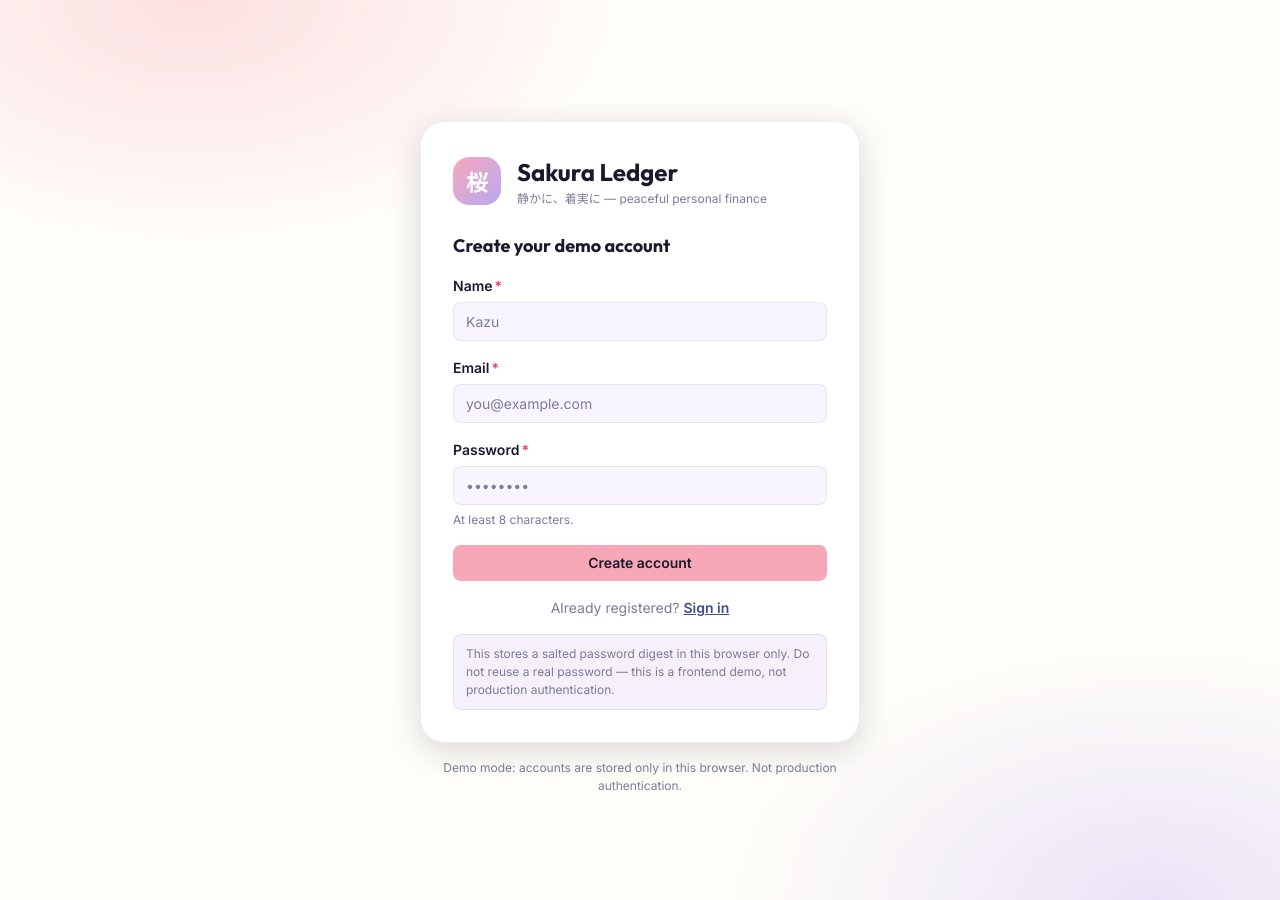
Test: demo authentication flow › rejects weak passwords on registration
Step 1. Type "Sa" into the field labelled "Name*" → (640, 322), box [453,302,827,341]
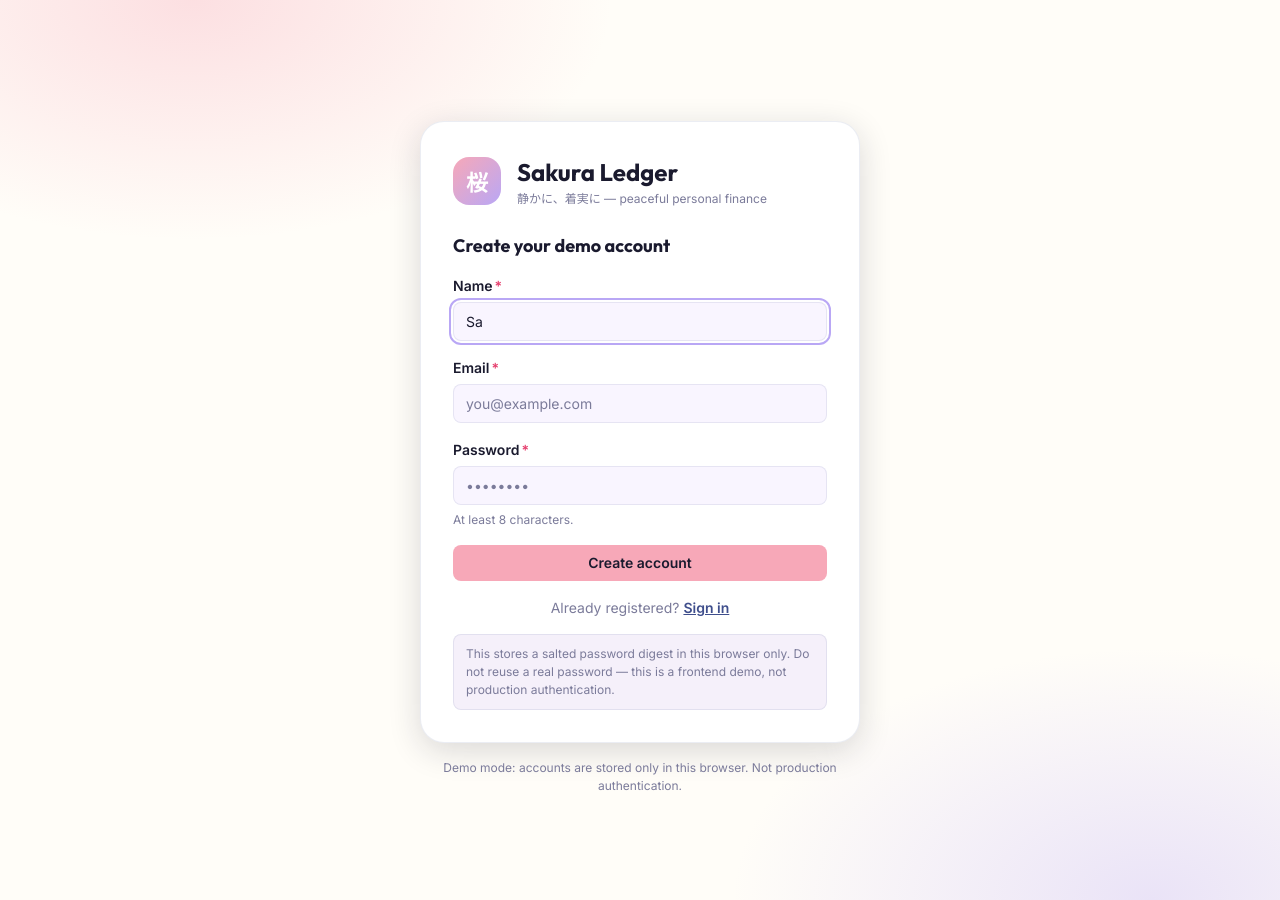
Step 2. Type "x@example.com" into the field labelled "Email*" → (640, 404), box [453,384,827,423]
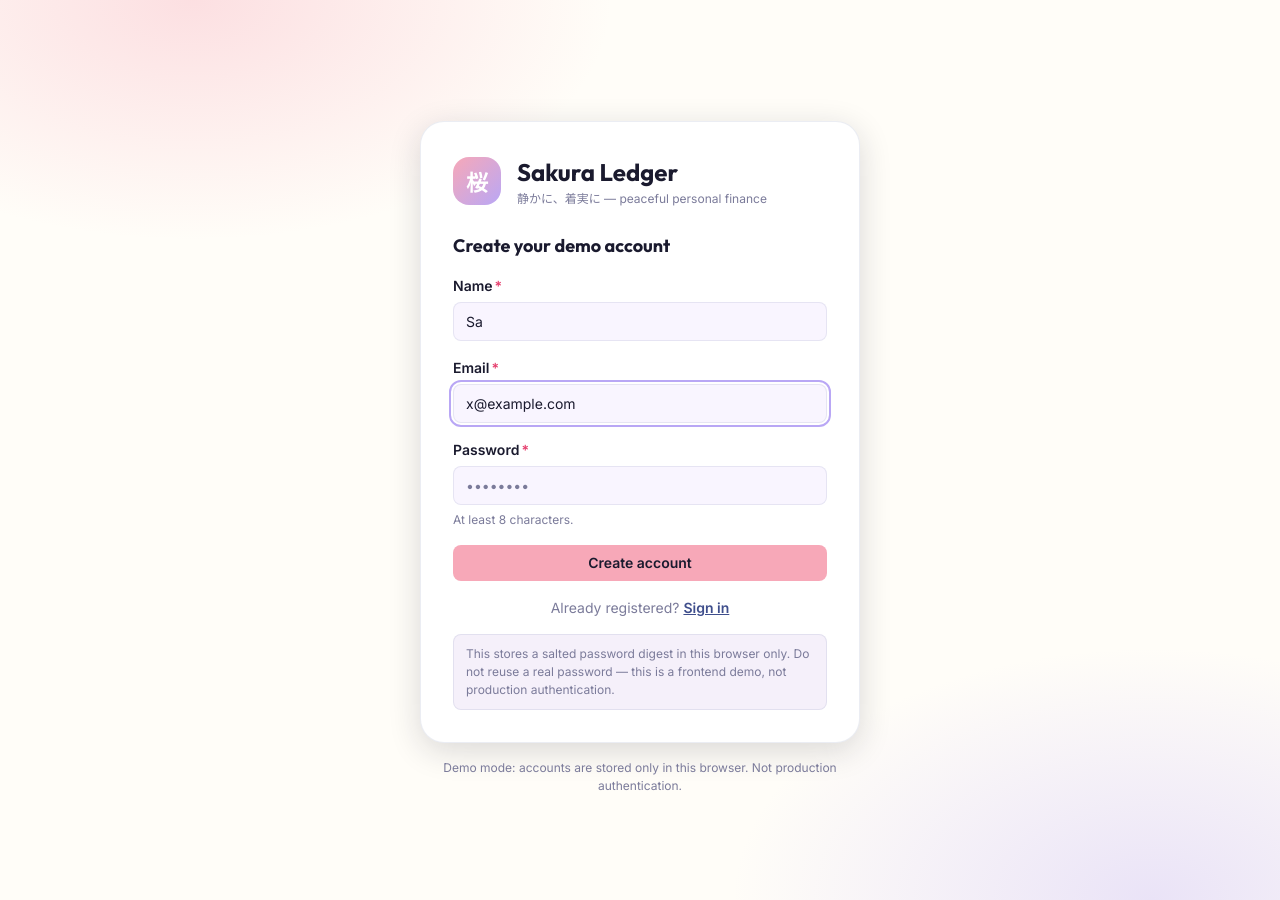
Step 3. Type "short" into the password field labelled "Password*" → (640, 486), box [453,466,827,505]
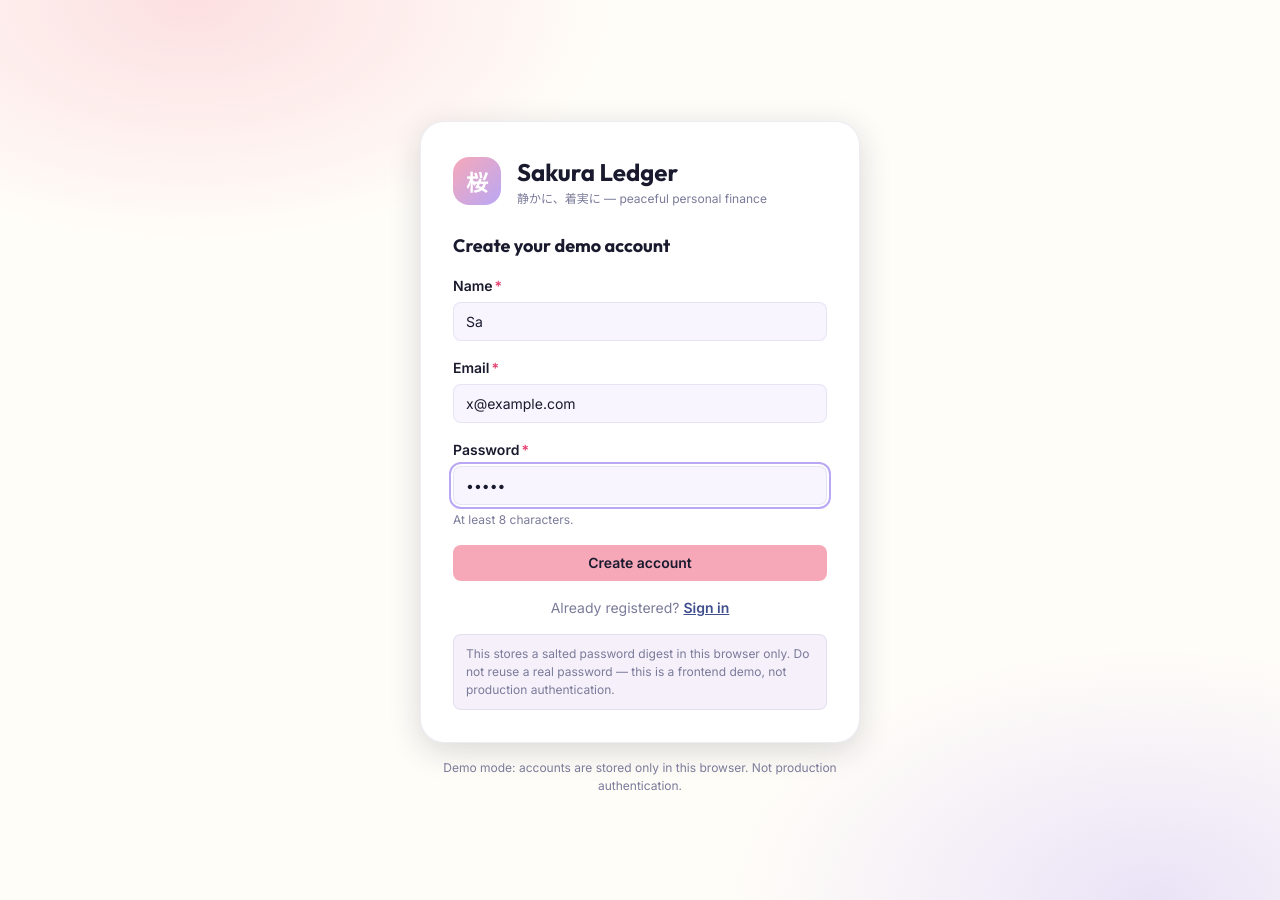
Step 4. Click the button "Create account" → (640, 563), box [453,545,827,581]
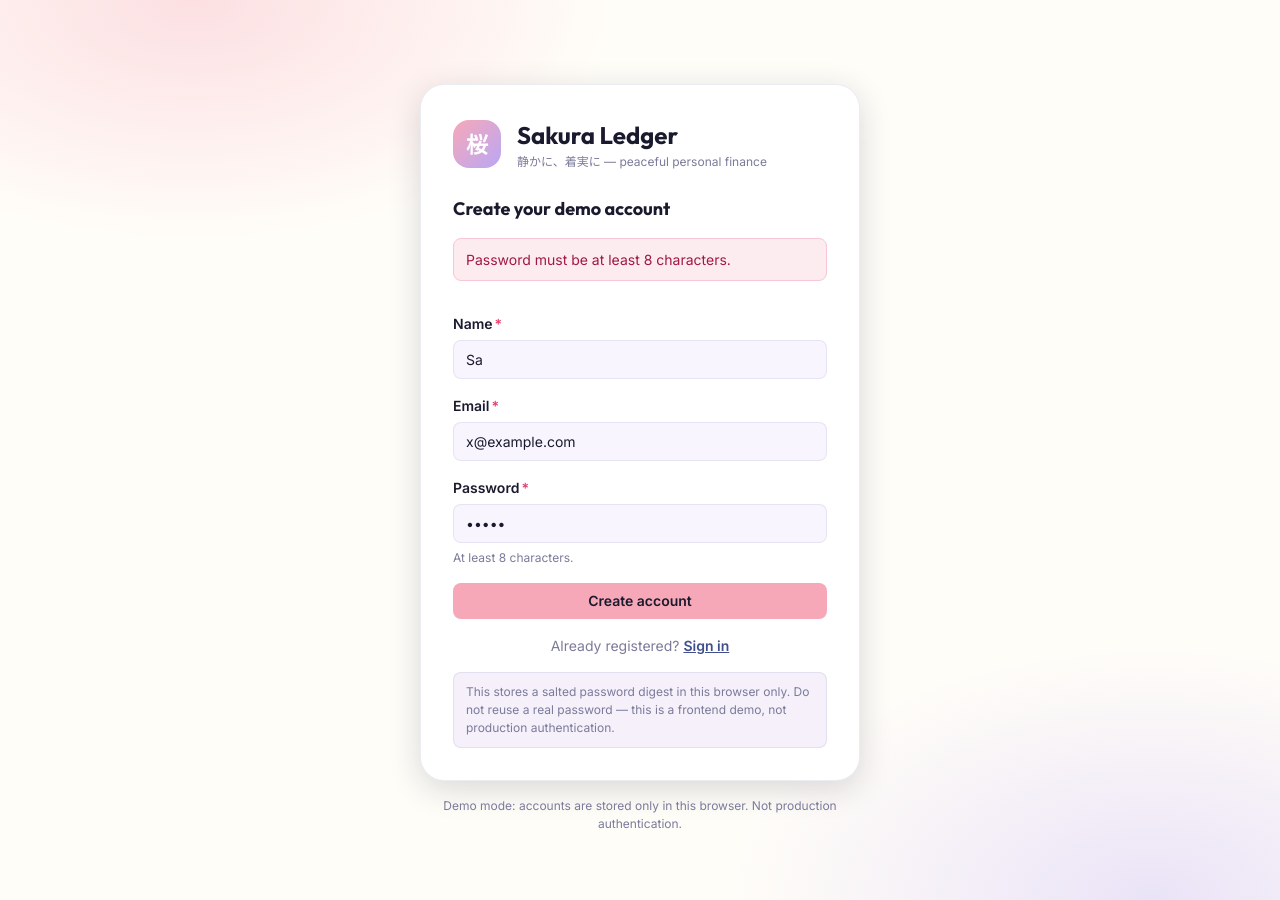
expect the message shows "at least 8 characters": met, box [466,250,731,268]
